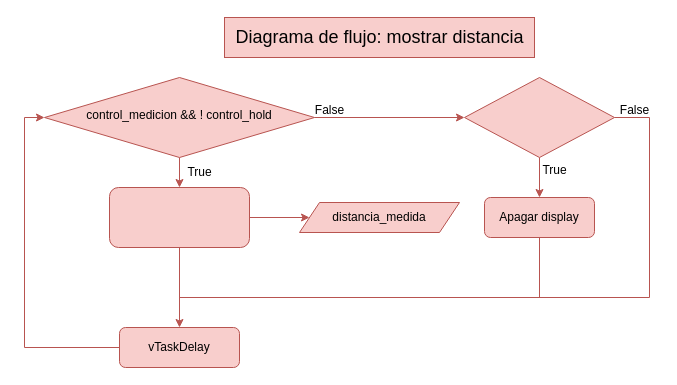
The diagram is 677 pixels wide and 385 high, and some of its shapes have lost their labels. Each missing label, with the centre of its shape:
! control_medicion: point 539,117
Mostrar medida por pantalla: point 179,217
